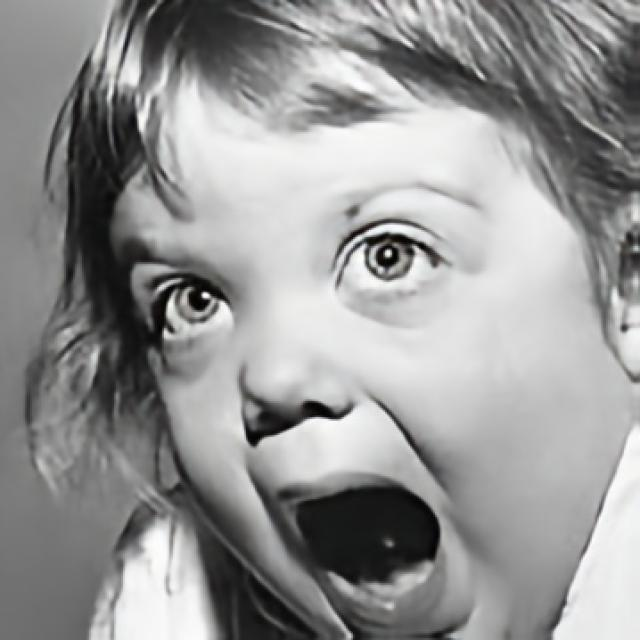fear: (101, 35, 640, 640)
